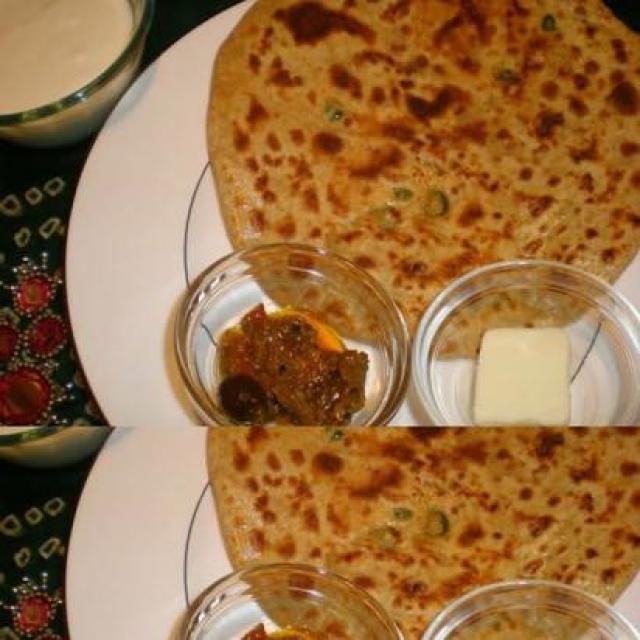alooparatha-chapati: (226, 13, 632, 262), (197, 446, 640, 589)
